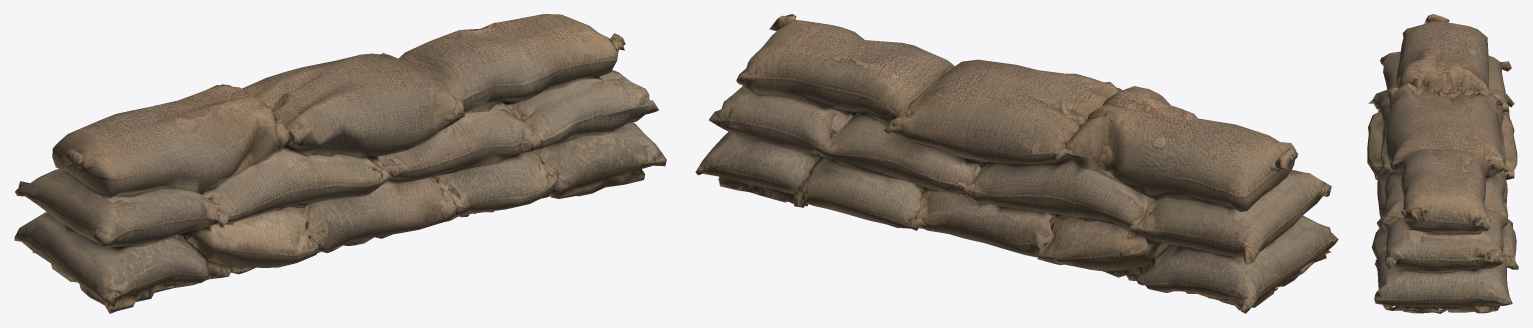
The model's file is SM_PR_SandbagWall_Varco.fbx.
3 renders of one model, left to right at view 1: azimuth 30°, elevation 25°; view 2: azimuth 150°, elevation 25°; view 3: azimuth 270°, elevation 25°, orthographic. The views are drawn at different scales.
Parts seen in each view (by area): view 1: texture_mapping; view 2: texture_mapping; view 3: texture_mapping.
Boxes of the visible parts, box(x1,y1,x2,y2) form: texture_mapping: box(14, 14, 666, 313); texture_mapping: box(695, 14, 1338, 313); texture_mapping: box(1367, 14, 1518, 313).
Size of the model in its own units: 0.9999 by 0.3114 by 0.2657.
1 material, 1 textured.
